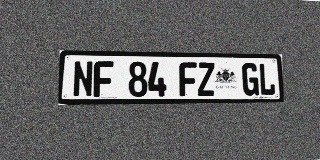4: (148, 62, 166, 97)
8: (129, 61, 147, 97)
F: (94, 61, 113, 97), (179, 62, 197, 96)
G: (242, 63, 259, 96)
L: (259, 63, 276, 96)
N: (73, 61, 93, 97)
Z: (197, 62, 215, 96)
